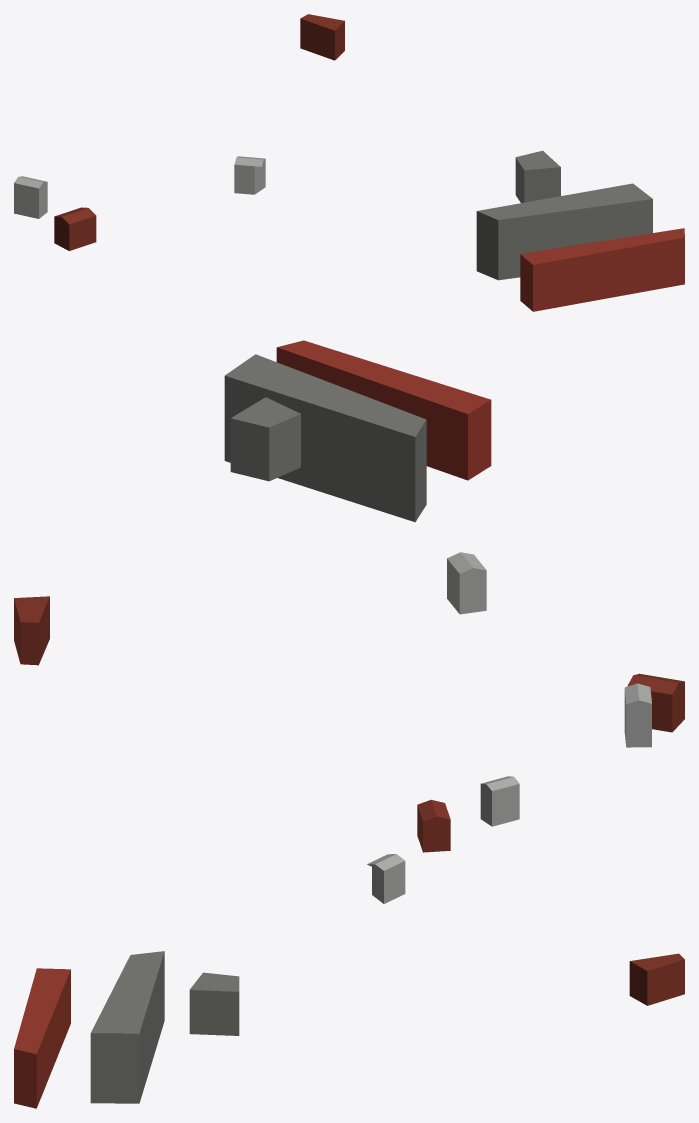
Rendered from near-15-27349-14881.578a3e9c.glb.
3 renders of one model, top to bottom at view 1: azimuth 30°, elevation 25°; view 2: azimuth 150°, elevation 25°; view 3: azimuth 270°, elevation 25°, orthographic. The views are drawn at different scales.
Bounding box in the file's own units: 315 × 51.98 × 337.
